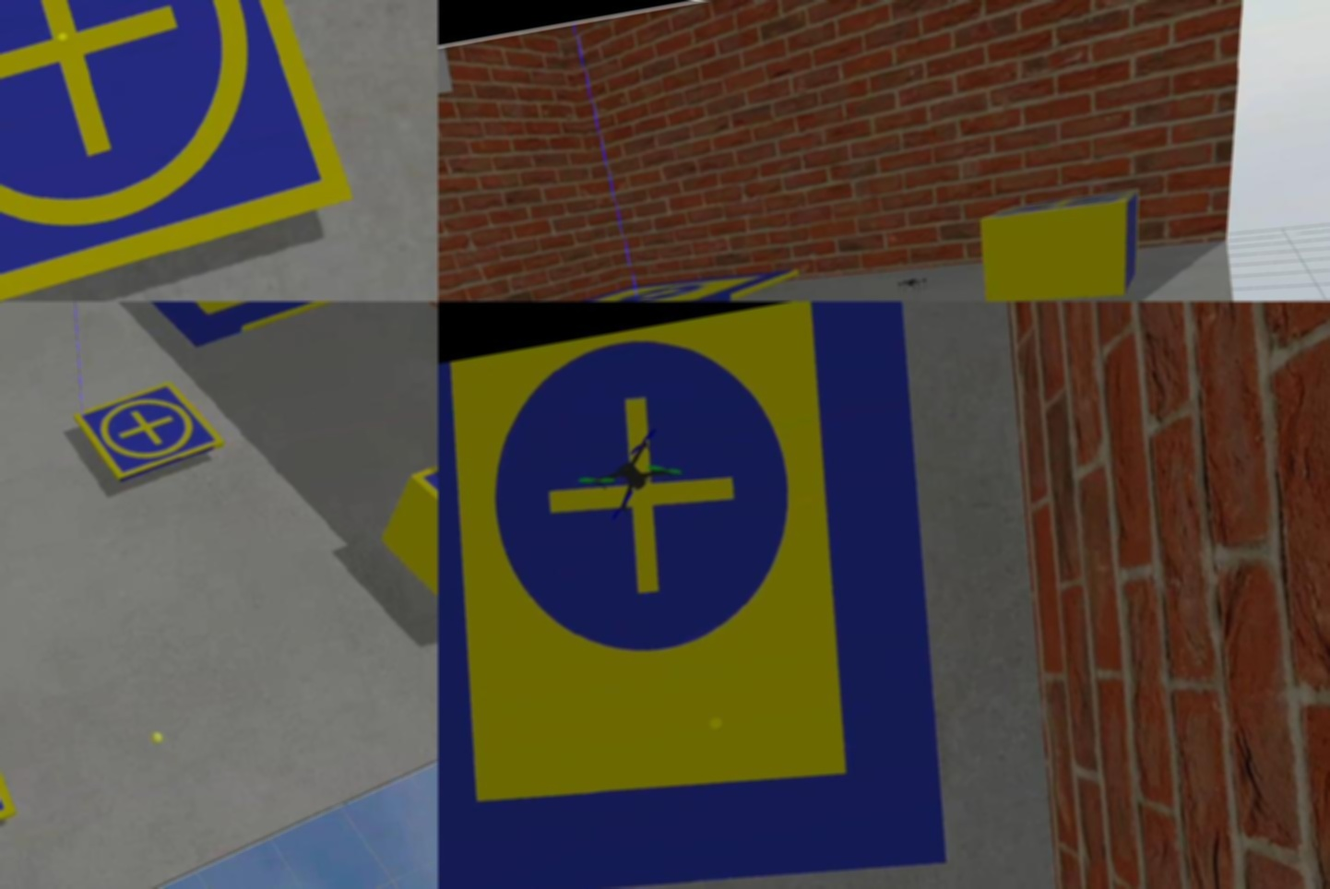large_base: (438, 302, 1006, 889), (517, 251, 810, 302), (132, 302, 383, 352)
small_base: (1, 1, 363, 302), (79, 382, 229, 486), (977, 179, 1146, 236)
